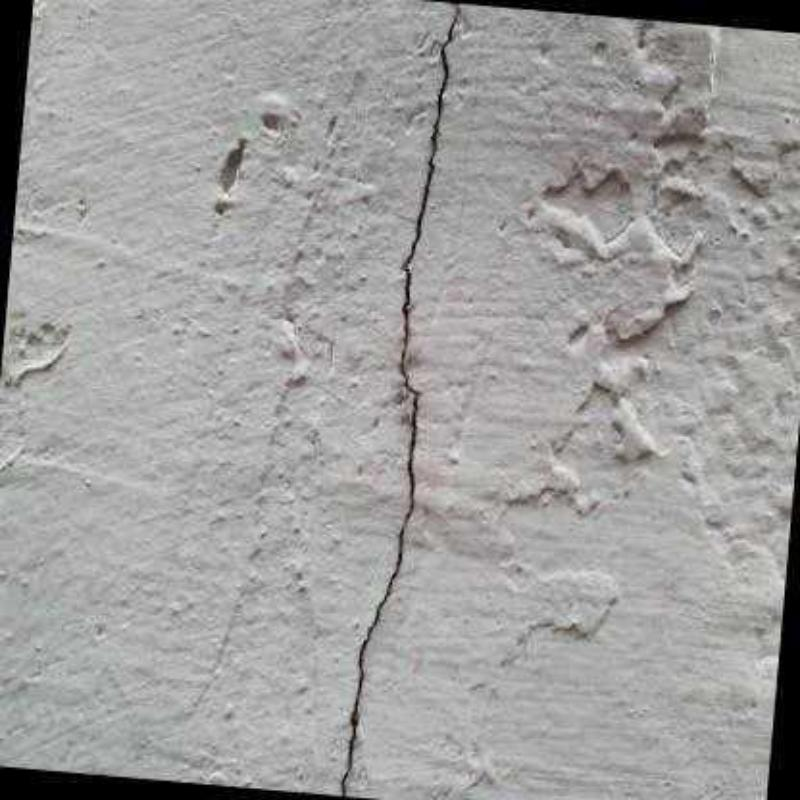pothole: (341, 3, 461, 797)
